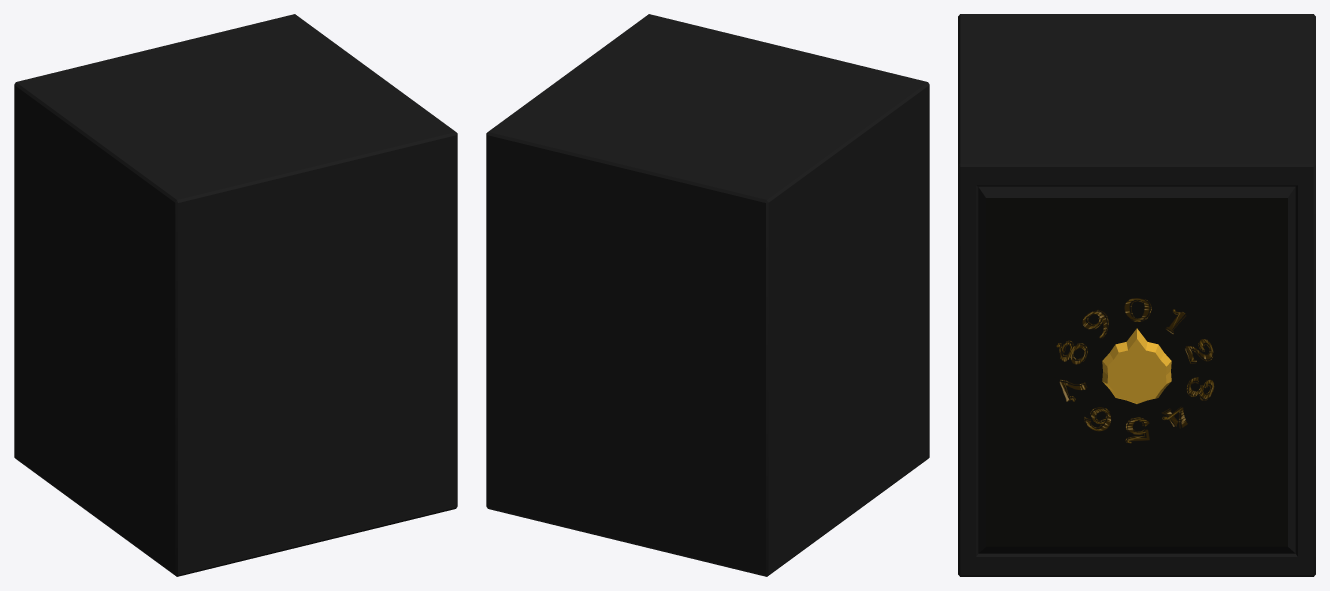
File: Safe.fbx
3 views of the same model, side by side, from view 1: azimuth 30°, elevation 25°; view 2: azimuth 150°, elevation 25°; view 3: azimuth 270°, elevation 25° (orthographic). The views are drawn at different scales.
Parts seen in each view (by area): view 1: Safe; view 2: Safe; view 3: Safe_Door, Safe, Safe_Dial.
Part boxes in pixels (<box>): Safe: <box>14,14,457,576</box>; Safe: <box>486,14,929,576</box>; Safe_Door: <box>978,186,1295,553</box>; Safe: <box>958,14,1315,576</box>; Safe_Dial: <box>1102,328,1171,403</box>.
Bounding box in the file's own units: 208 × 255 × 200.
